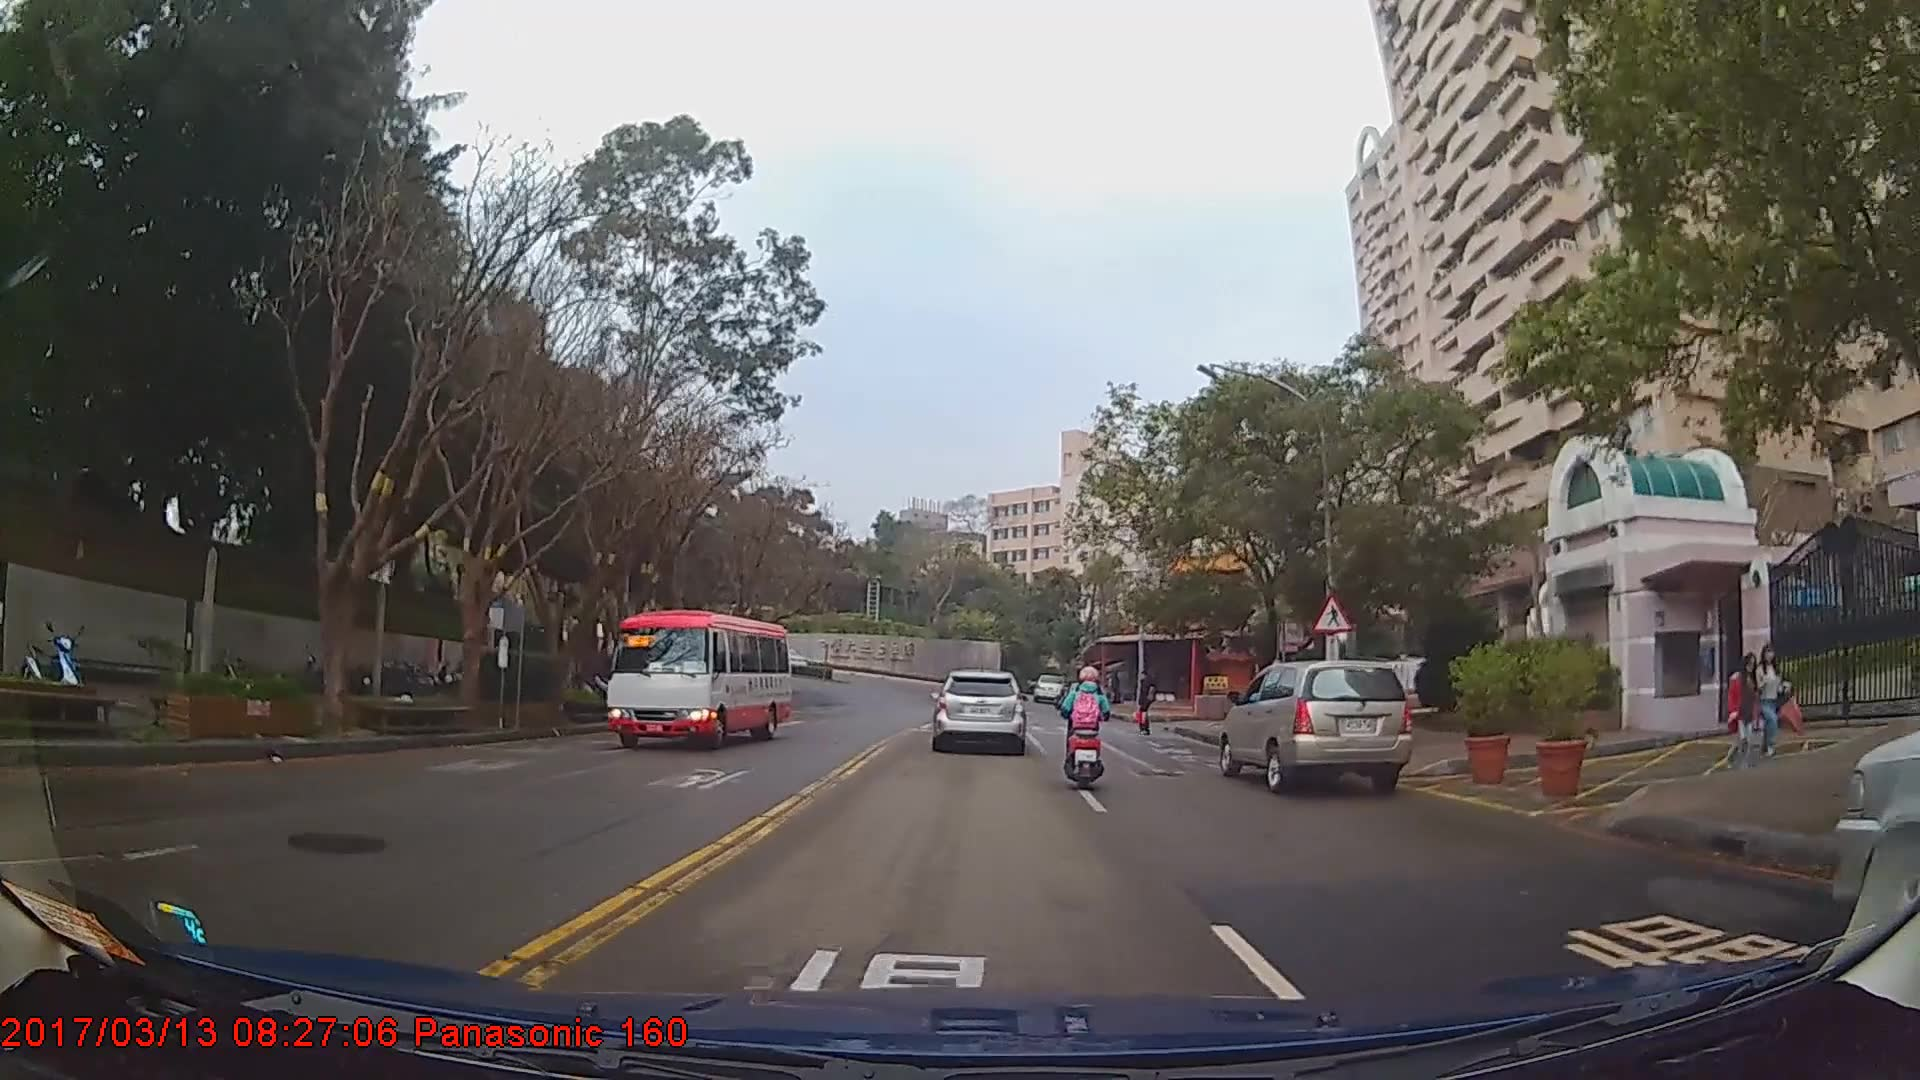pedestrian: (1722, 641, 1769, 780), (1754, 630, 1798, 769), (1133, 669, 1159, 741)
rider: (1060, 664, 1115, 794)
vehicle: (603, 609, 792, 750), (1217, 659, 1410, 795), (929, 668, 1026, 755), (1031, 674, 1064, 702)
